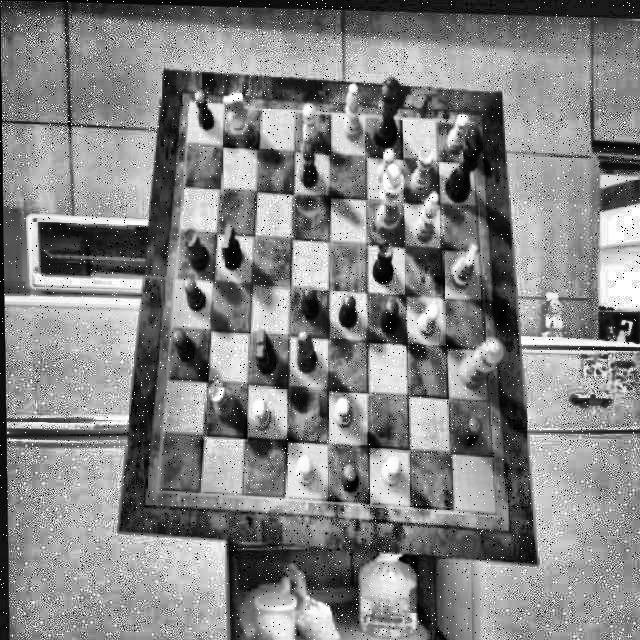black-bishop: (298, 130, 318, 187), (294, 328, 316, 371)
black-king: (445, 122, 483, 202)
black-knight: (254, 327, 276, 373), (221, 223, 243, 269)
black-pawn: (194, 89, 216, 130), (456, 414, 482, 446), (181, 278, 204, 313), (170, 329, 194, 362), (302, 284, 320, 320), (337, 292, 355, 326), (379, 296, 397, 330), (338, 461, 358, 489)
black-queen: (372, 75, 402, 148)
black-rook: (183, 226, 210, 271), (372, 239, 395, 282)
white-bishop: (414, 188, 439, 241), (343, 80, 361, 138)
white-king: (376, 161, 404, 236)
white-knight: (450, 240, 478, 286), (224, 91, 249, 138)
white-pawn: (446, 110, 469, 149), (416, 302, 439, 335), (302, 104, 320, 144), (377, 146, 395, 184), (294, 454, 314, 486), (380, 454, 400, 484), (252, 398, 270, 431), (334, 394, 352, 426)
white-queen: (458, 334, 503, 389)
white-rook: (208, 380, 236, 418), (412, 146, 434, 192)
